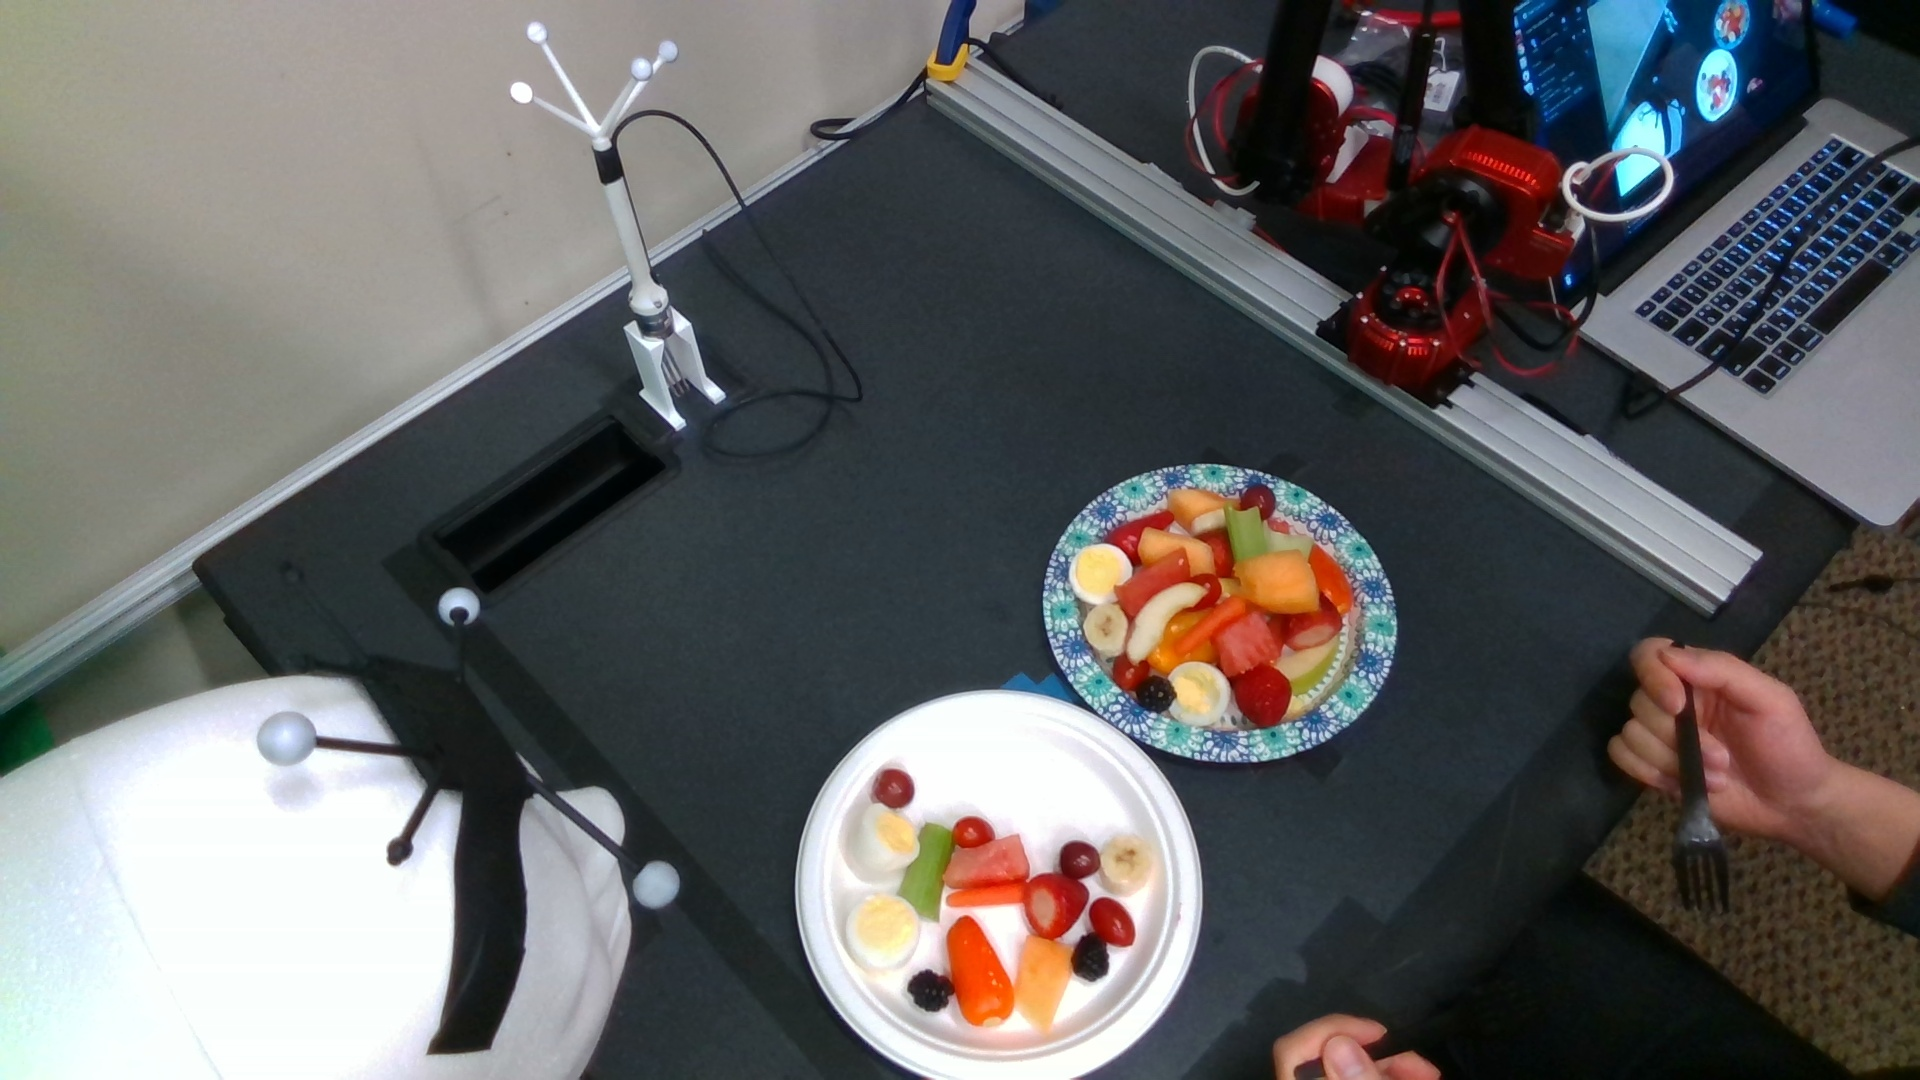apple: (1129, 585, 1207, 661)
banana: (1098, 835, 1155, 891), (1080, 603, 1134, 654)
bell_pepper: (948, 916, 1015, 1029)
blackberry: (909, 971, 953, 1011), (1073, 934, 1112, 978), (1135, 676, 1175, 709)
cantalope: (1017, 936, 1073, 1036), (1234, 555, 1320, 608), (1138, 526, 1215, 574), (1168, 488, 1241, 516)
carrot: (944, 887, 1029, 906)
celery: (913, 824, 953, 918), (1224, 502, 1267, 564)
cherry_tomato: (1088, 899, 1134, 947), (952, 818, 996, 848)
egg: (847, 894, 919, 967), (855, 804, 916, 878), (1167, 663, 1232, 725), (1068, 543, 1134, 603)
grape_purple: (1062, 843, 1098, 881), (876, 771, 913, 806), (1245, 487, 1276, 517)
melon: (944, 835, 1033, 887), (1118, 553, 1193, 607), (1211, 612, 1278, 670)
strawberry: (1025, 873, 1088, 938), (1234, 665, 1294, 728)
